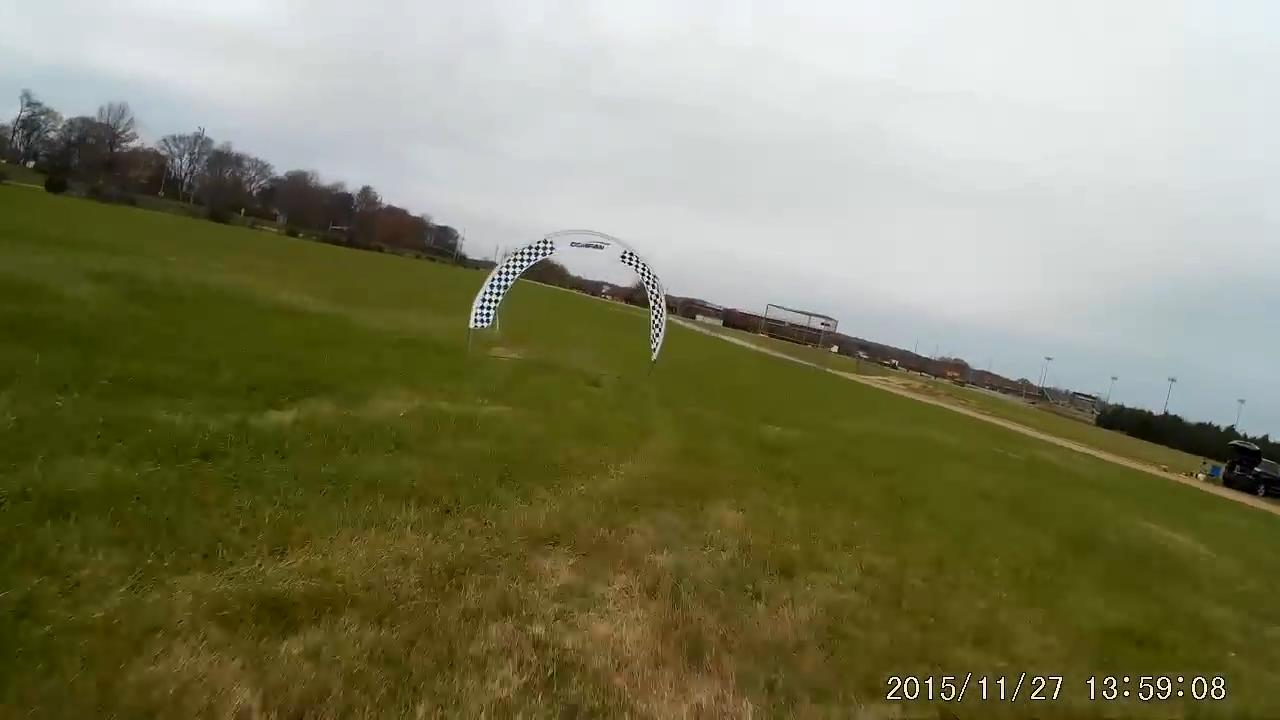gate: (465, 229, 668, 363)
